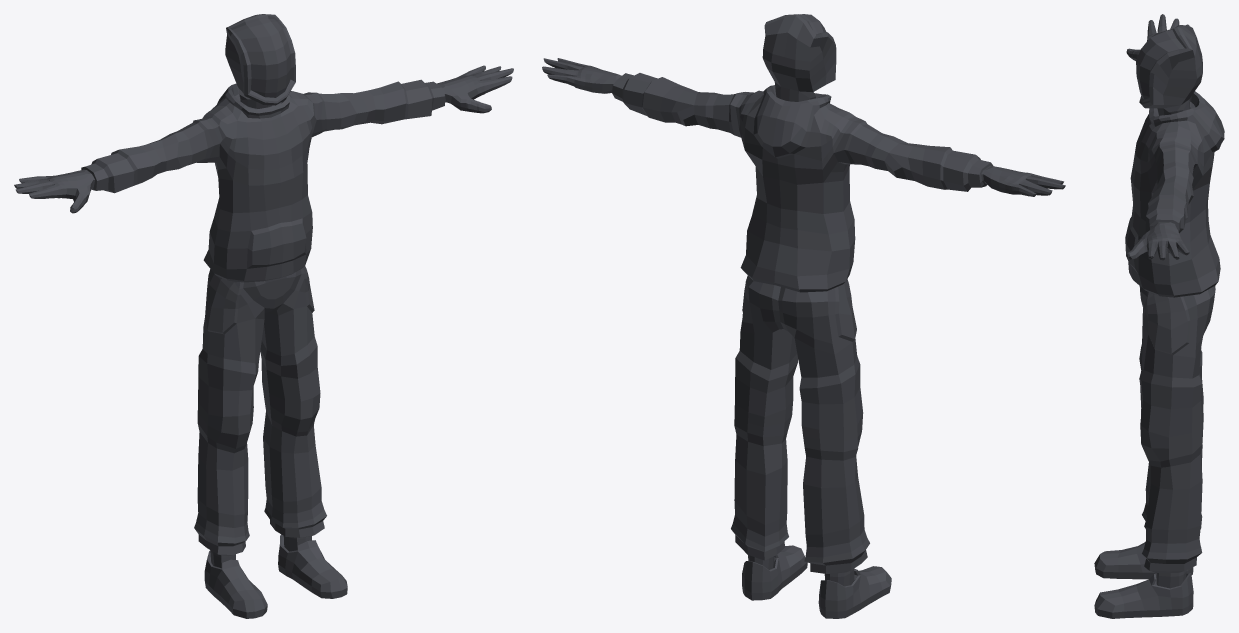
Rendered from Cyberpunk character4.fbx.
3 renders of one model, left to right at view 1: azimuth 30°, elevation 25°; view 2: azimuth 150°, elevation 25°; view 3: azimuth 270°, elevation 25°, orthographic. The views are drawn at different scales.
Parts seen in each view (by area): view 1: Cyberpunk_characters4; view 2: Cyberpunk_characters4; view 3: Cyberpunk_characters4.
Boxes of the visible parts, box(x1,y1,x2,y2) form: Cyberpunk_characters4: box(14, 14, 513, 618); Cyberpunk_characters4: box(542, 14, 1065, 618); Cyberpunk_characters4: box(1094, 14, 1224, 618).
Size of the model in its own units: 168 by 181 by 37.78.
